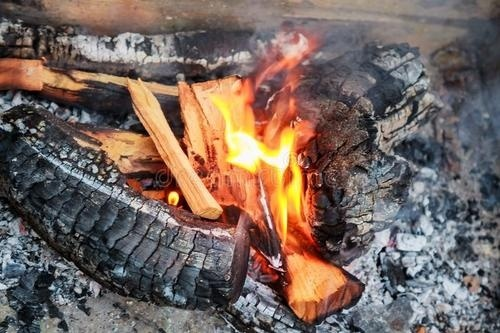fire: (190, 73, 322, 245)
